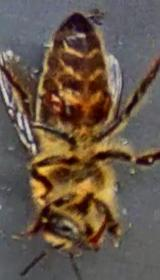varroa_mite: (30, 84, 72, 122)
